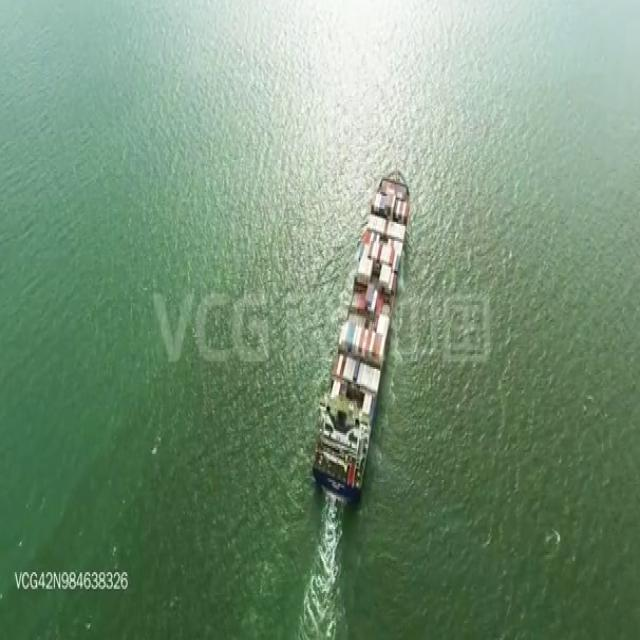cargoship: (311, 168, 410, 505)
